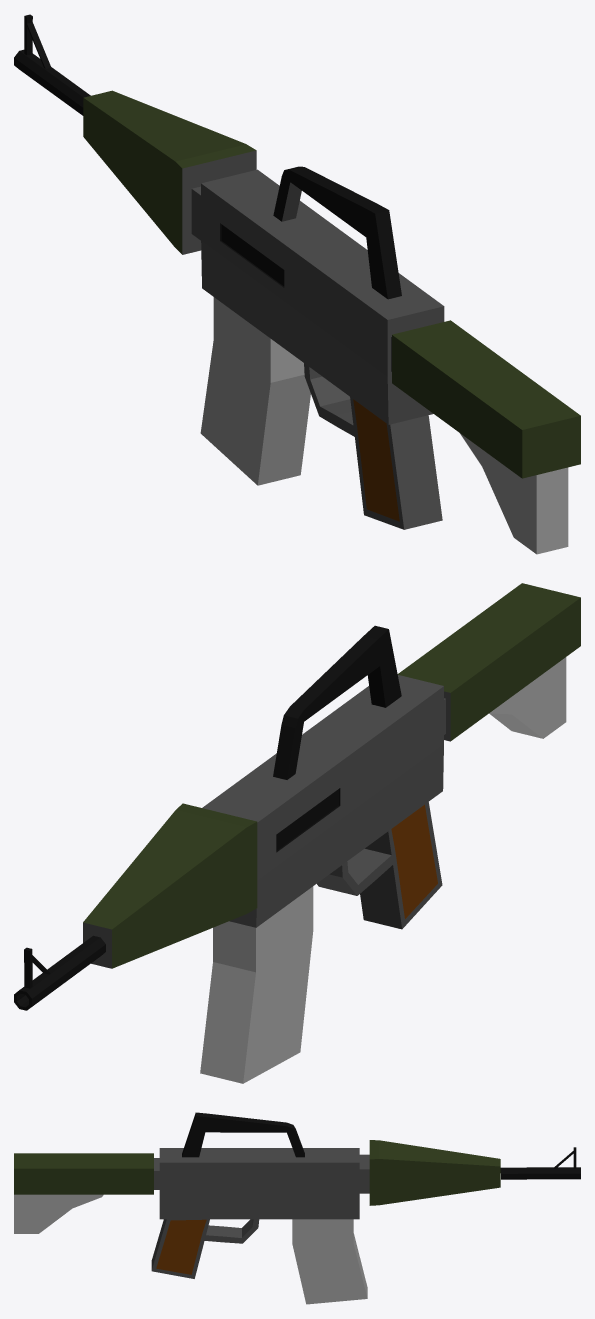
The model's file is lowpoly-gun.fbx.
3 views of the same model, one above another, from view 1: azimuth 30°, elevation 25°; view 2: azimuth 150°, elevation 25°; view 3: azimuth 270°, elevation 25° (orthographic). The views are drawn at different scales.
Visible parts, largest first — view 1: GunBody1; view 2: GunBody1; view 3: GunBody1.
Boxes of the visible parts, <box> form: GunBody1: <box>14,14,580,554</box>; GunBody1: <box>14,583,580,1083</box>; GunBody1: <box>14,1112,580,1304</box>.
Size of the model in its own units: 46 by 203 by 566.
